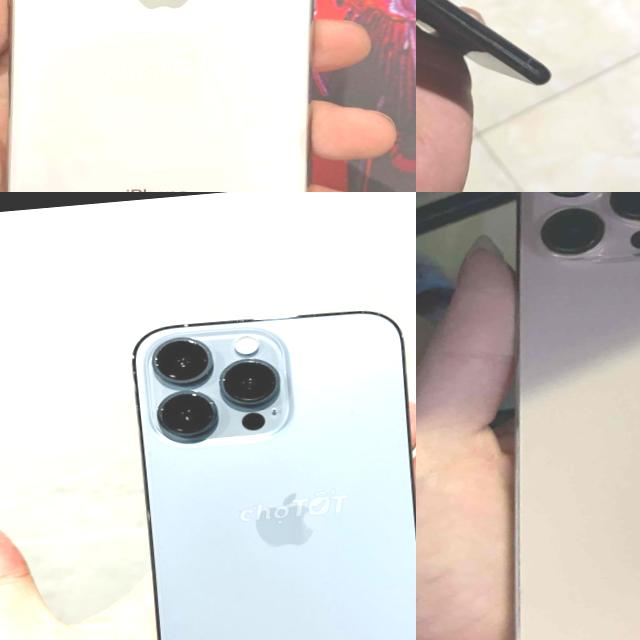gen_11: (416, 0, 550, 84)
gen_12_13: (117, 300, 416, 640), (466, 192, 640, 640)
gen_x_xs: (0, 0, 385, 192)
